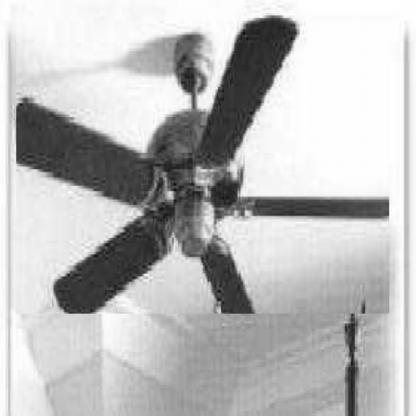ceiling-fan: (16, 15, 390, 314)
